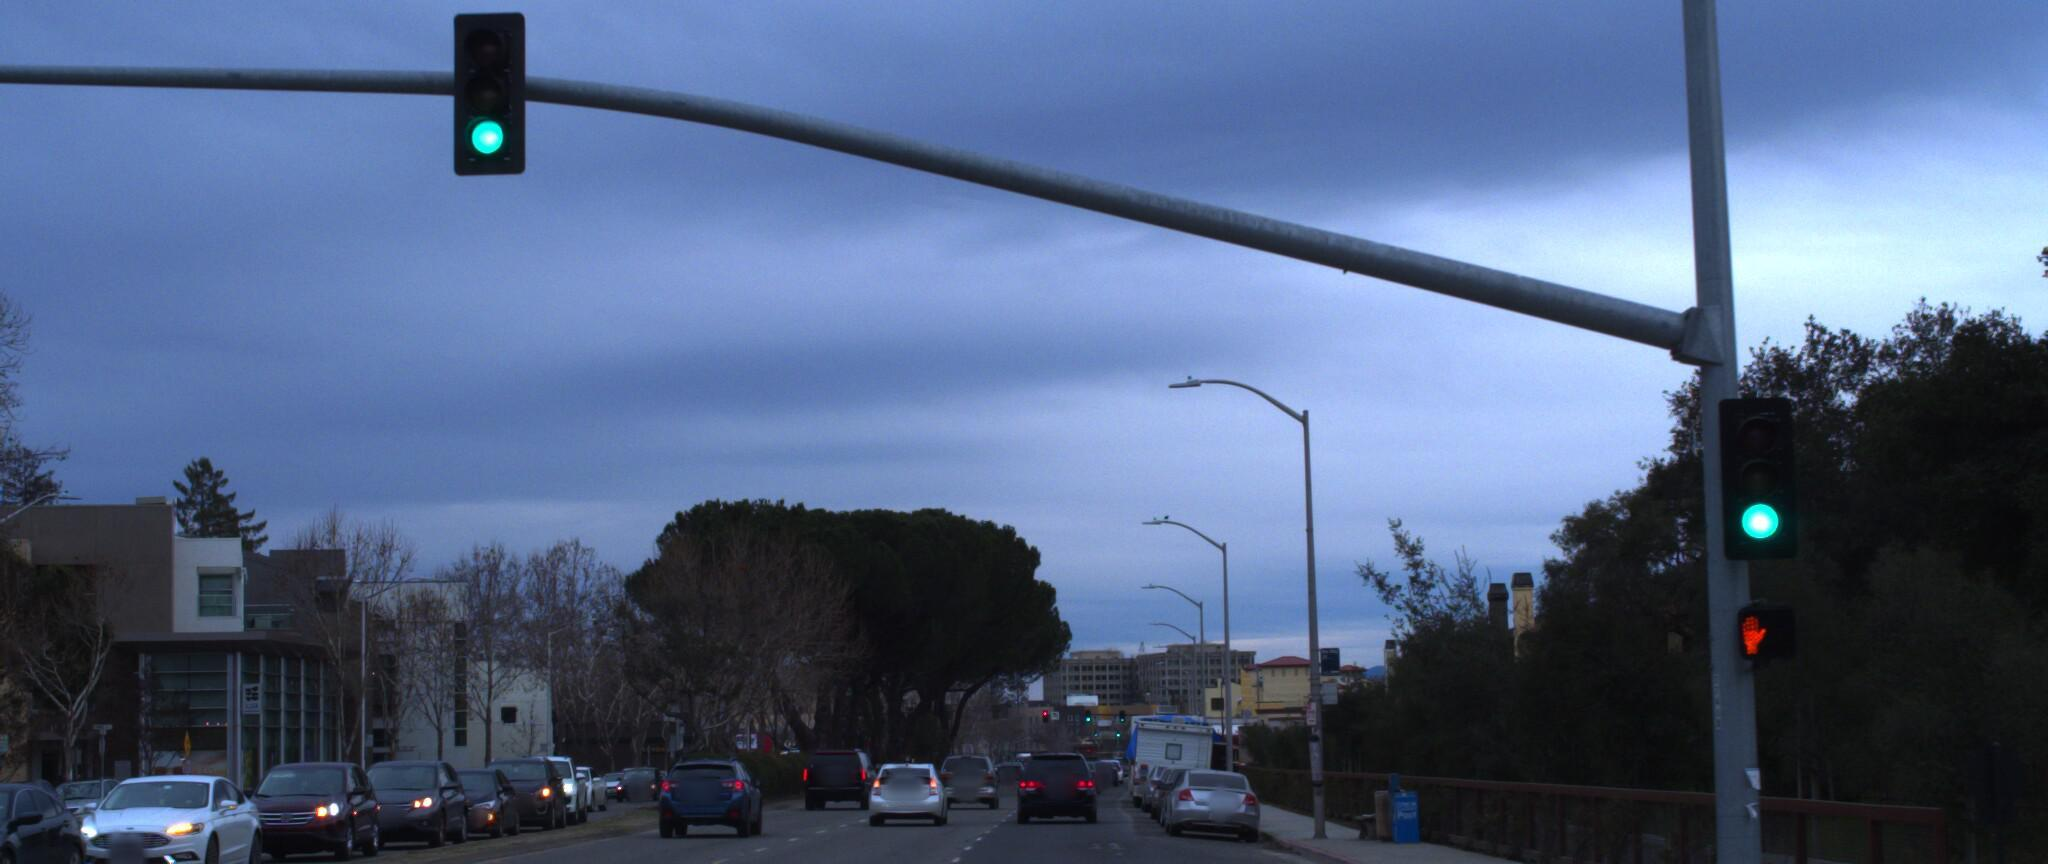car: (60, 760, 280, 864), (234, 747, 392, 855), (336, 745, 477, 842), (652, 743, 767, 827), (409, 754, 532, 831), (1157, 754, 1253, 827), (1014, 745, 1098, 818), (859, 747, 948, 816)
